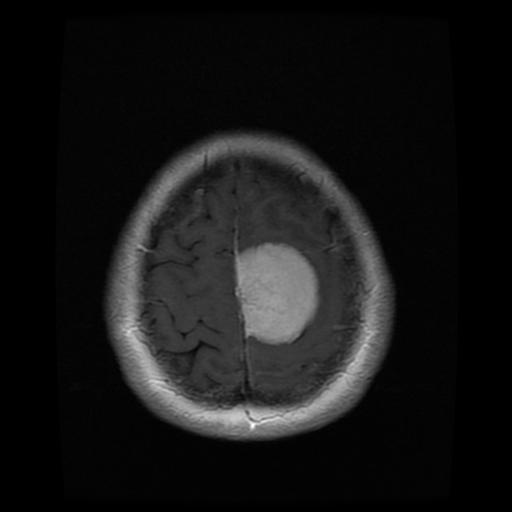Menigiomia_tumour: (235, 241, 317, 341)
